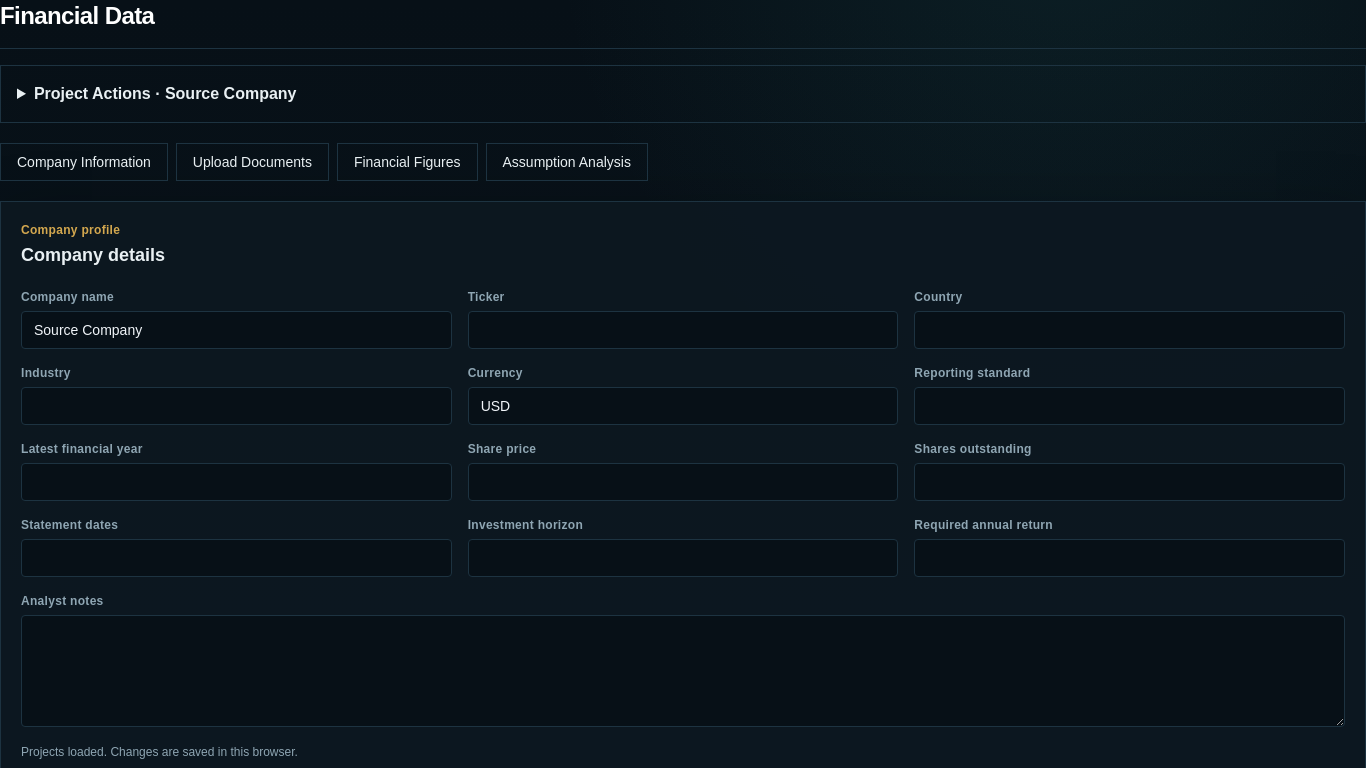
Test: keeps review and approval in Financial Data without requesting analysis
Click the link "Financial Figures" at (407,162), box [337, 143, 478, 181]
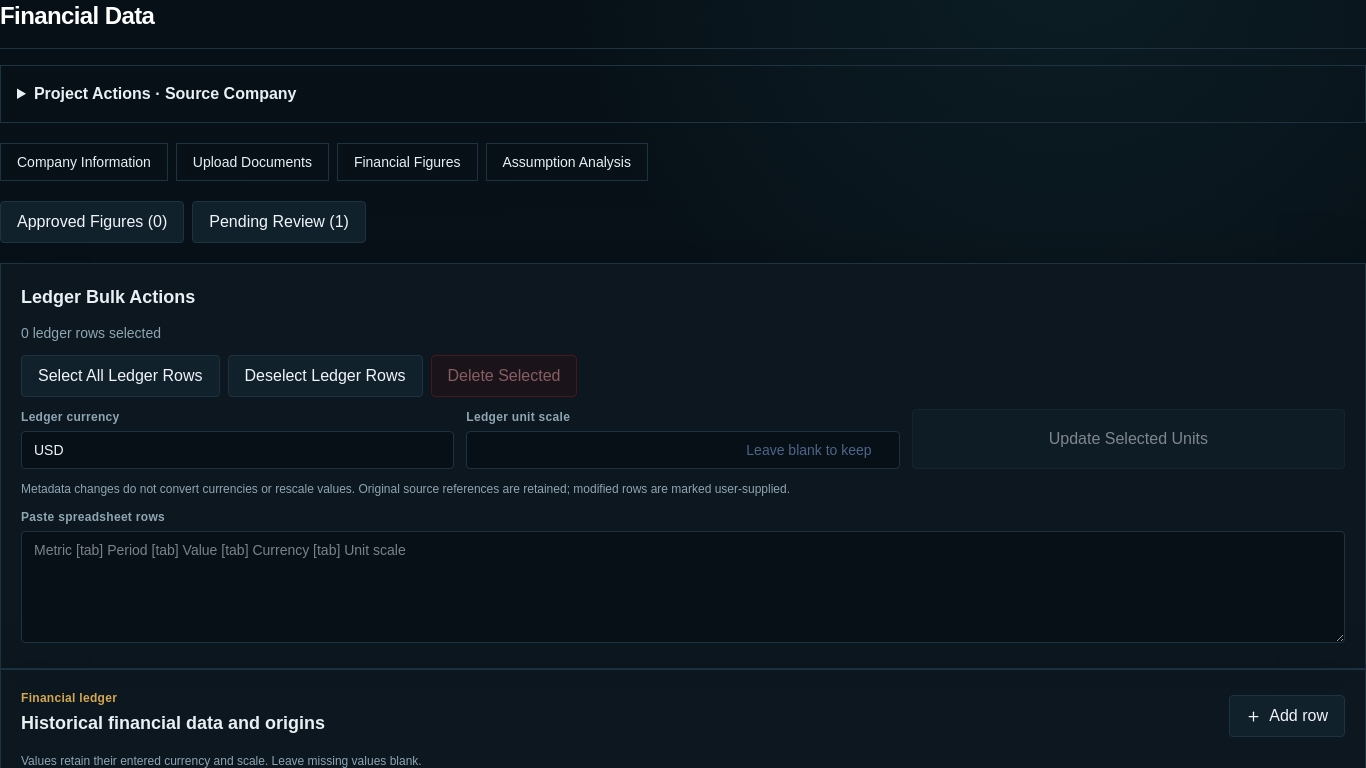
Click the button "Pending Review (1)" at (279,222), box [192, 201, 366, 243]
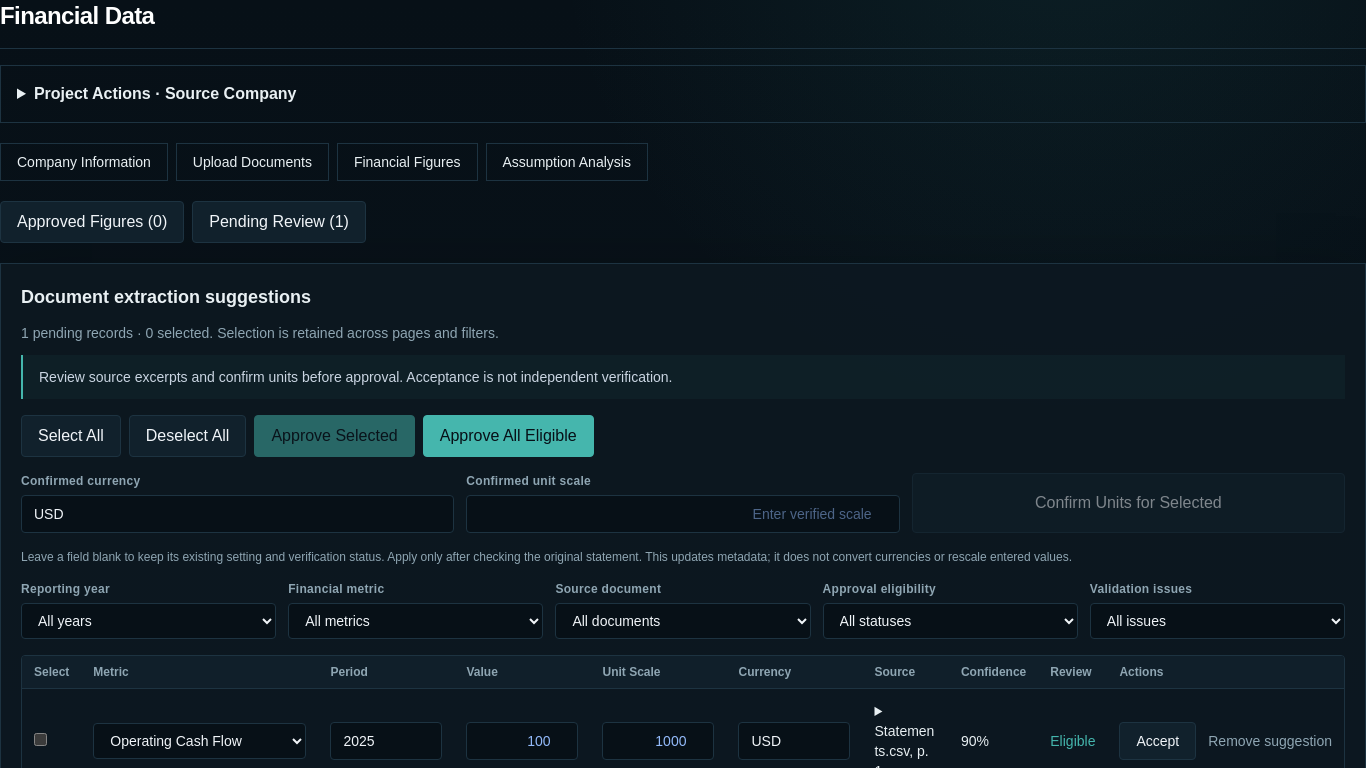
Expected: the heading "Financial Analysis" is not shown
Result: the heading "Document extraction suggestions" is shown at [21, 287, 311, 307]
Replace the text in the number field named "Review Value suggestion 1" with "125" at (522,741), box [466, 722, 578, 760]
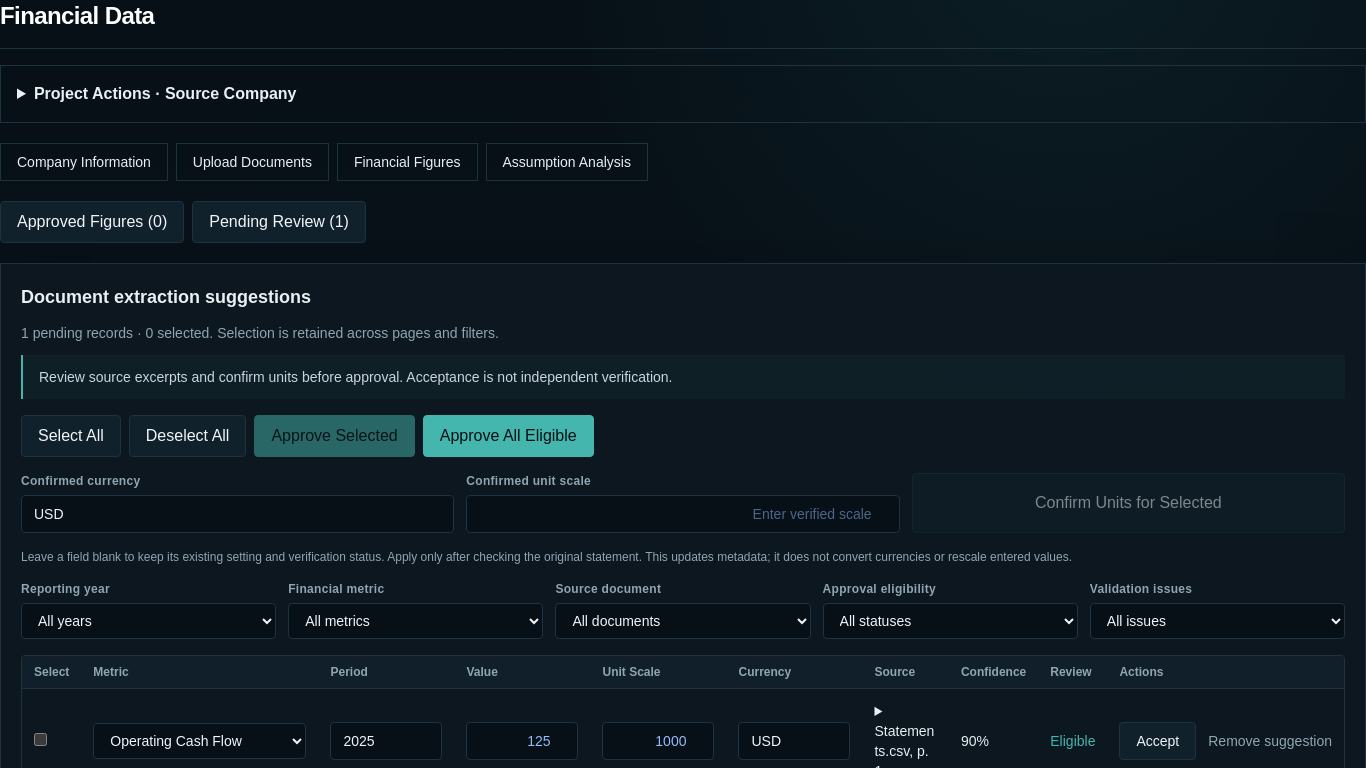
Click the button "Accept" at (1158,741), box [1119, 722, 1196, 760]
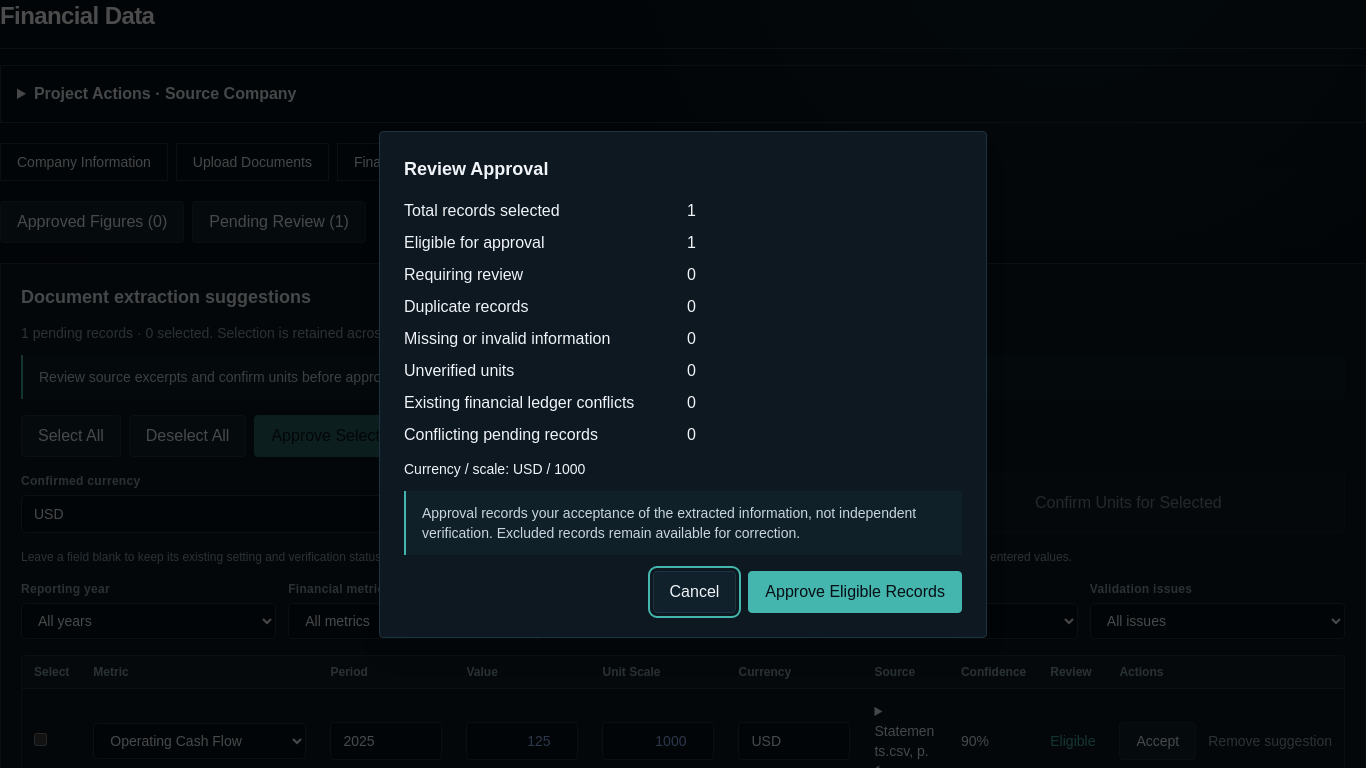
Click the button "Approve Eligible Records" at (855,592), box [748, 570, 962, 612]
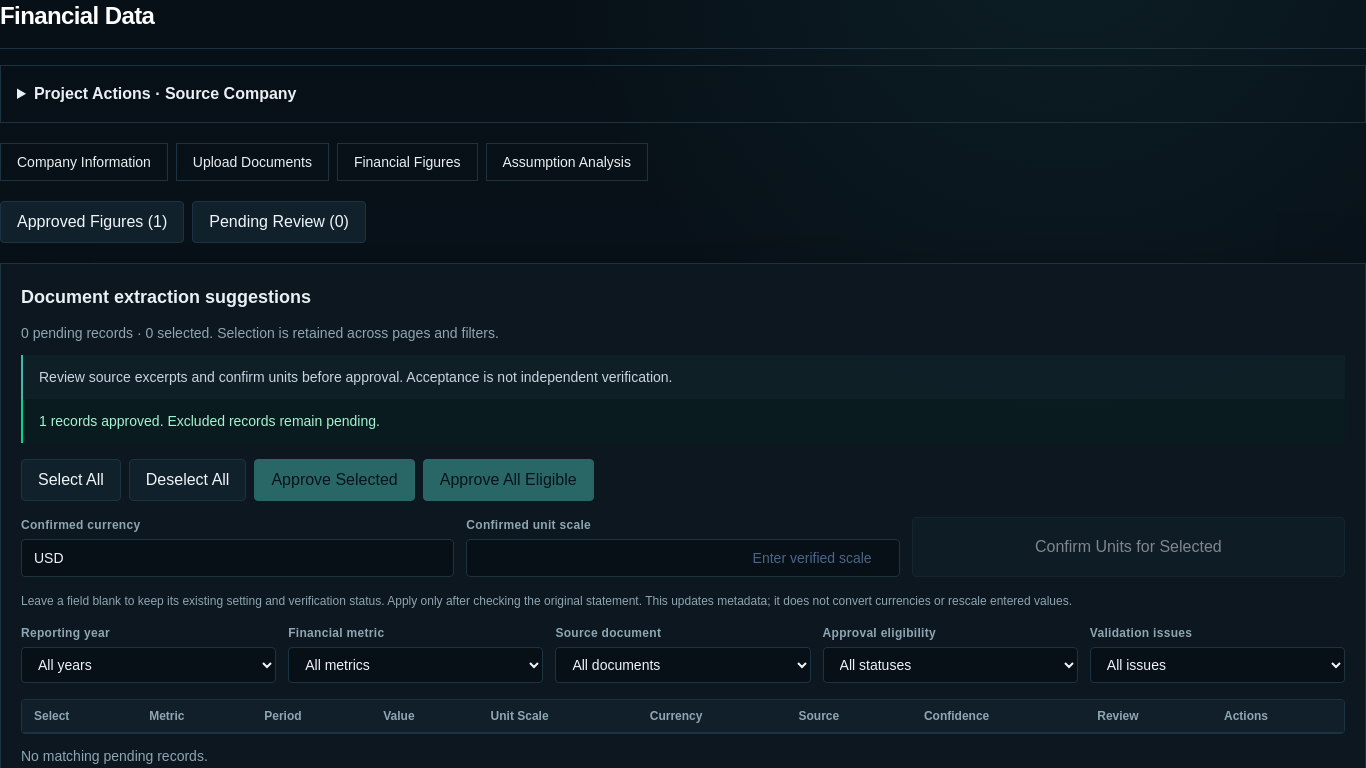
Click the button "Approved Figures (1)" at (92,222), box [0, 201, 184, 243]
(page scrolled)
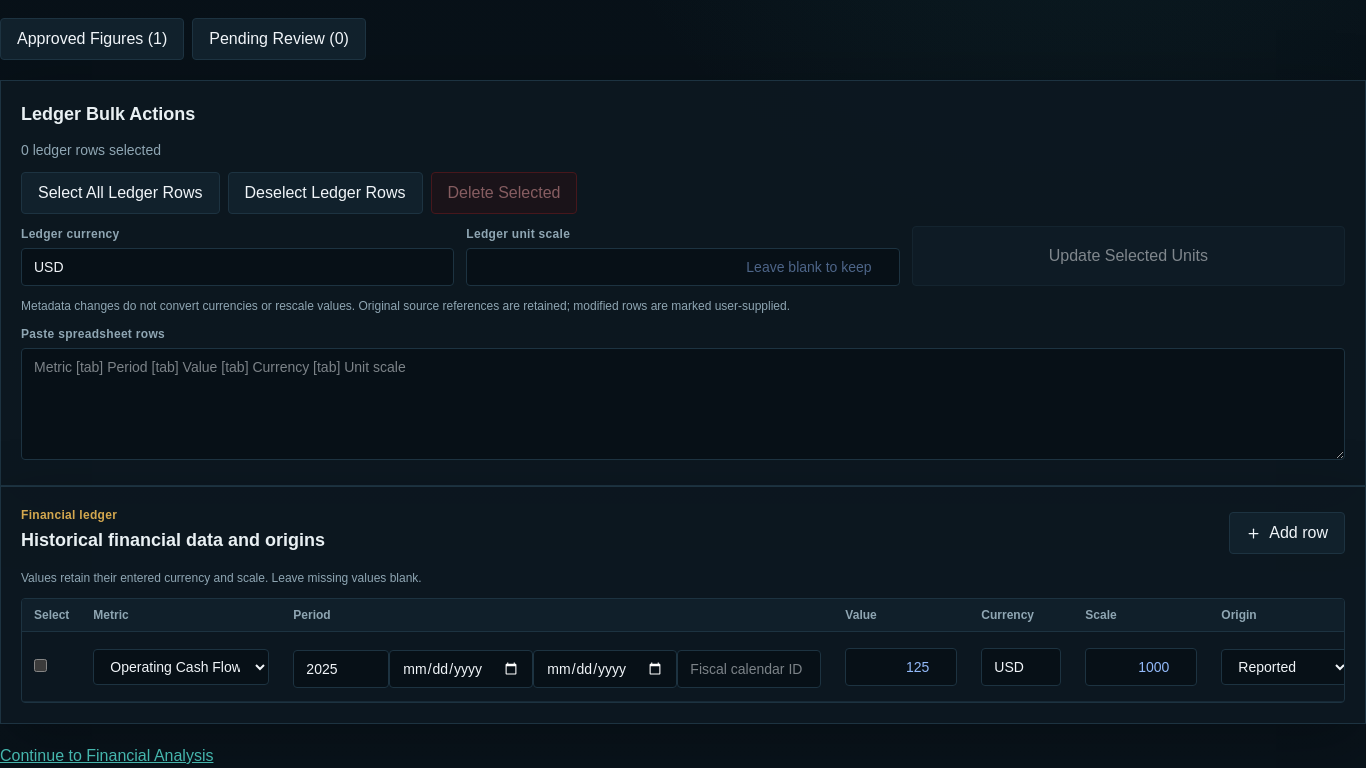
Result: the number field named "Value row 1" holds "125" at [845, 648, 957, 686]
Result: the dropdown named "Metric row 1" shows "Operating Cash Flow" at [93, 648, 269, 684]
